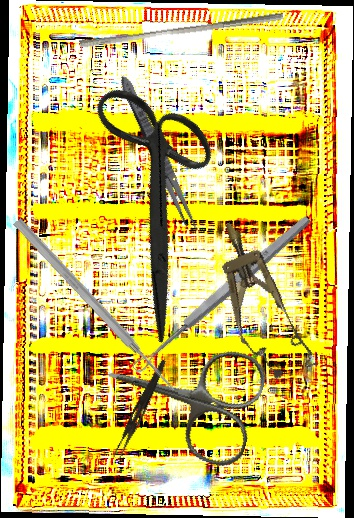Dressing Forceps: (114, 72, 203, 236), (112, 357, 168, 462)
Iris Scissors: (22, 60, 289, 344), (91, 316, 272, 474)
Pusher: (11, 216, 179, 395), (79, 4, 284, 56)
Speculum: (198, 211, 320, 388)
Surgical Spoon: (129, 212, 314, 376)
